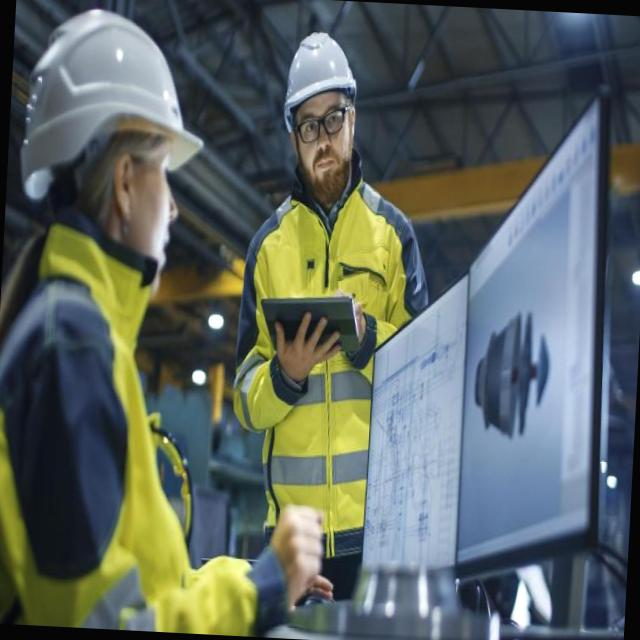goggles: (282, 90, 359, 150)
helmet: (19, 0, 213, 212), (280, 24, 364, 142)
no-goggles: (108, 145, 190, 203)
vest: (226, 165, 437, 568), (0, 228, 204, 633)
